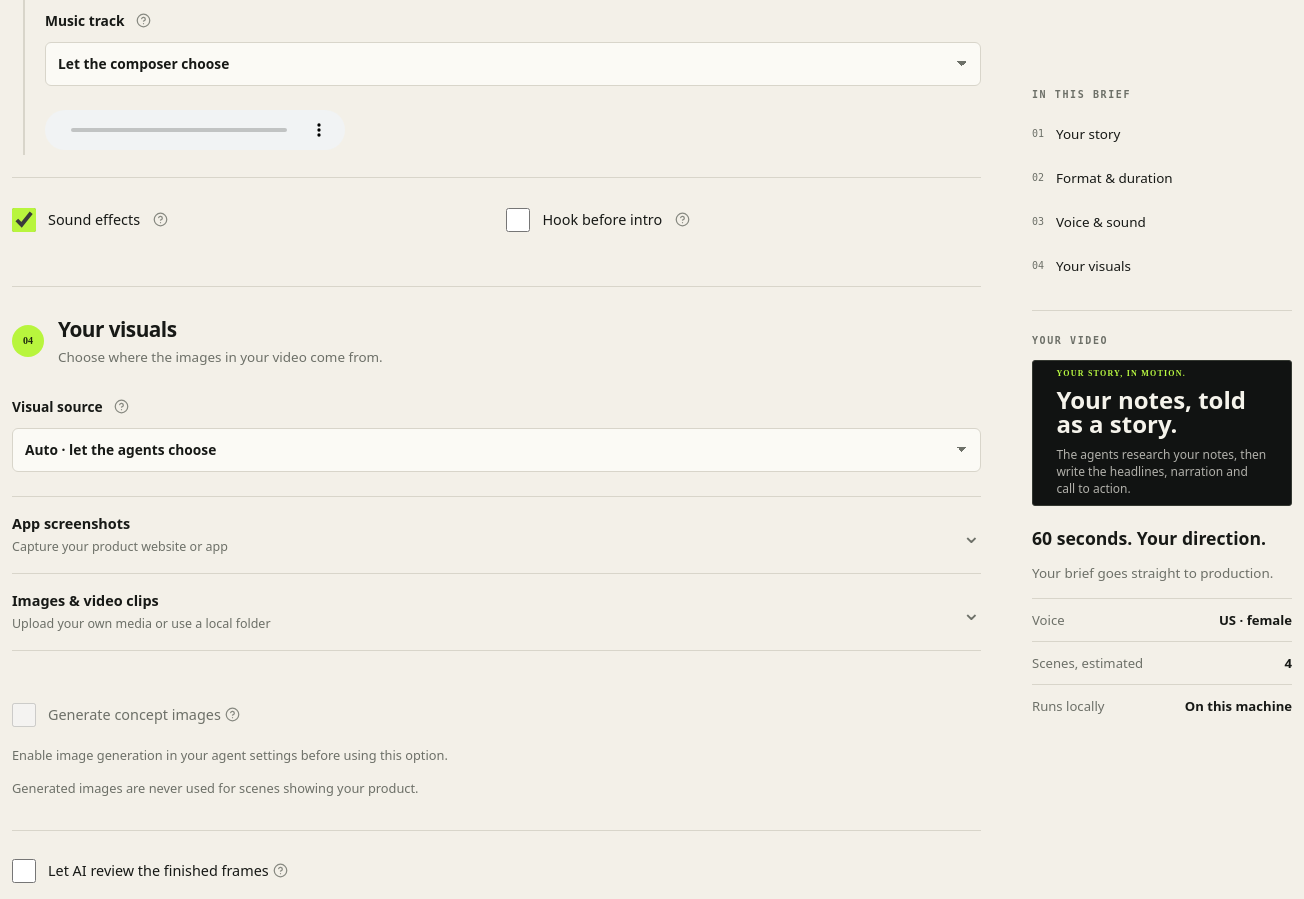
Test case: brief progressive disclosure › retains image and capture customizations when switching visual sources
(page scrolled)
Select "My images & video clips" in the dropdown labelled "Visual source" at (496, 450), box [12,428,981,472]
(page scrolled)
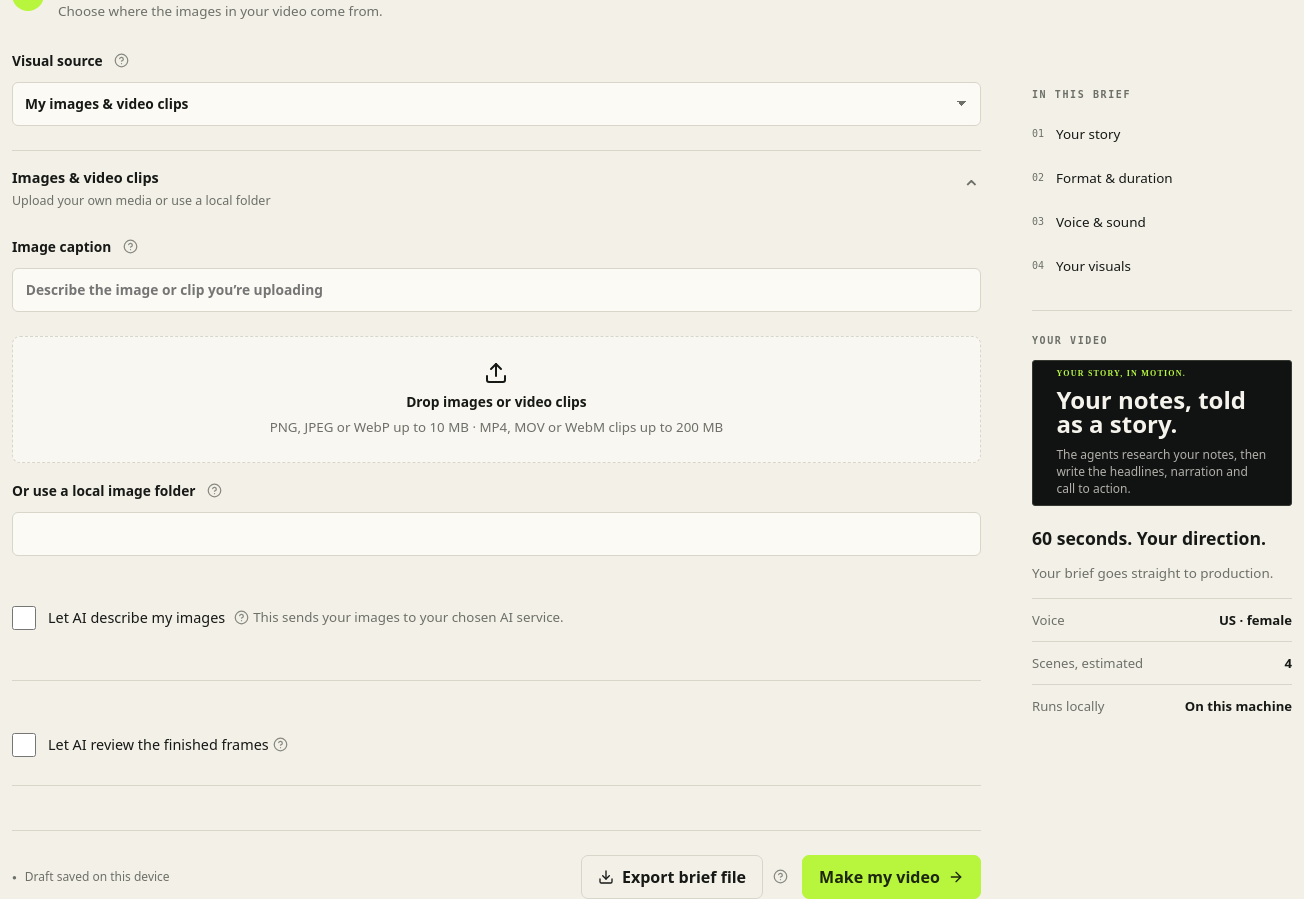
Type "/tmp/my-images" into the field labelled "Or use a local image folder" at (496, 534), box [12,512,981,556]
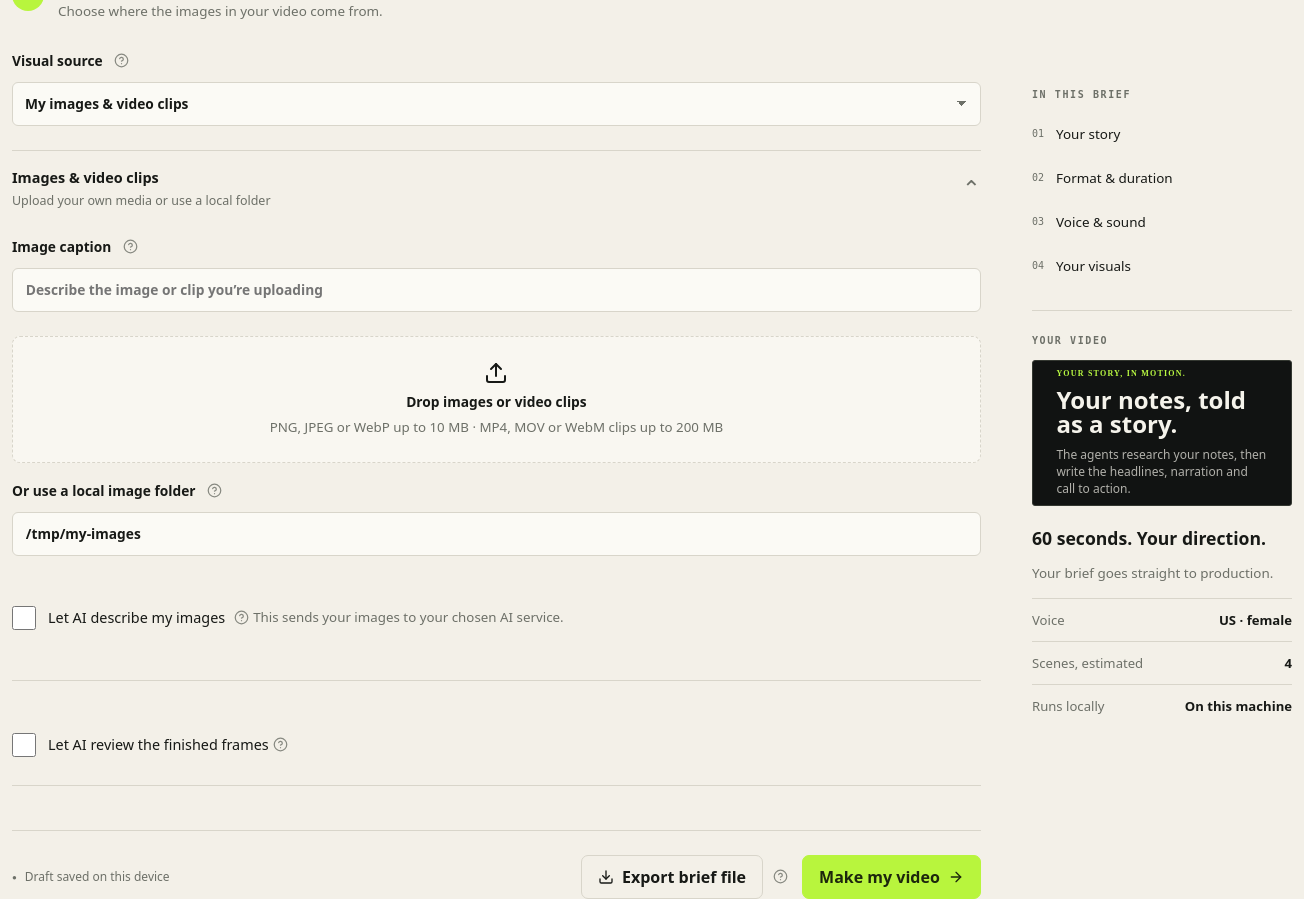
Select "App screenshots" in the dropdown labelled "Visual source" at (496, 104), box [12,82,981,126]
(page scrolled)
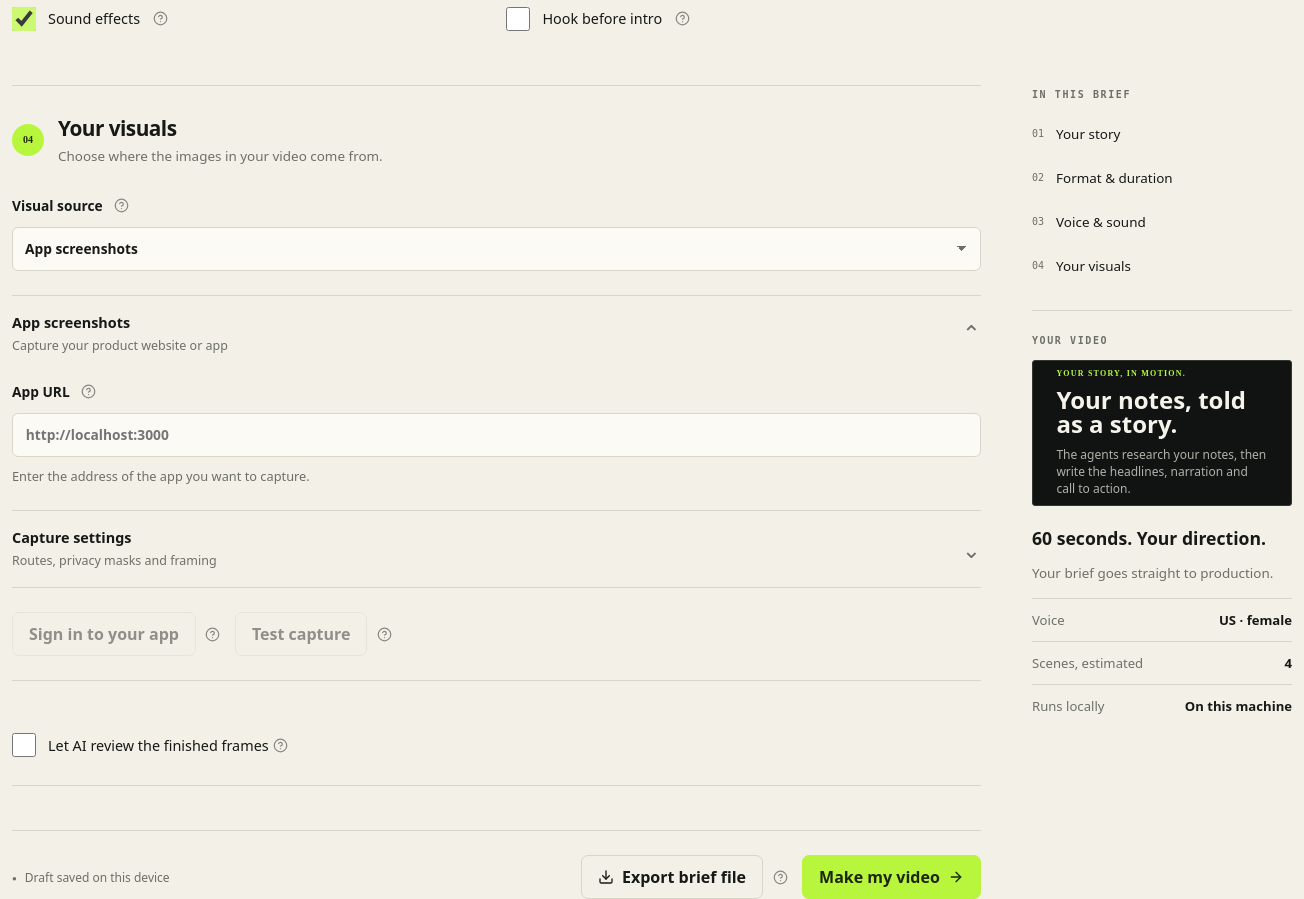
Type "https://example.com/app" into the field labelled "App URL" at (496, 435), box [12,413,981,457]
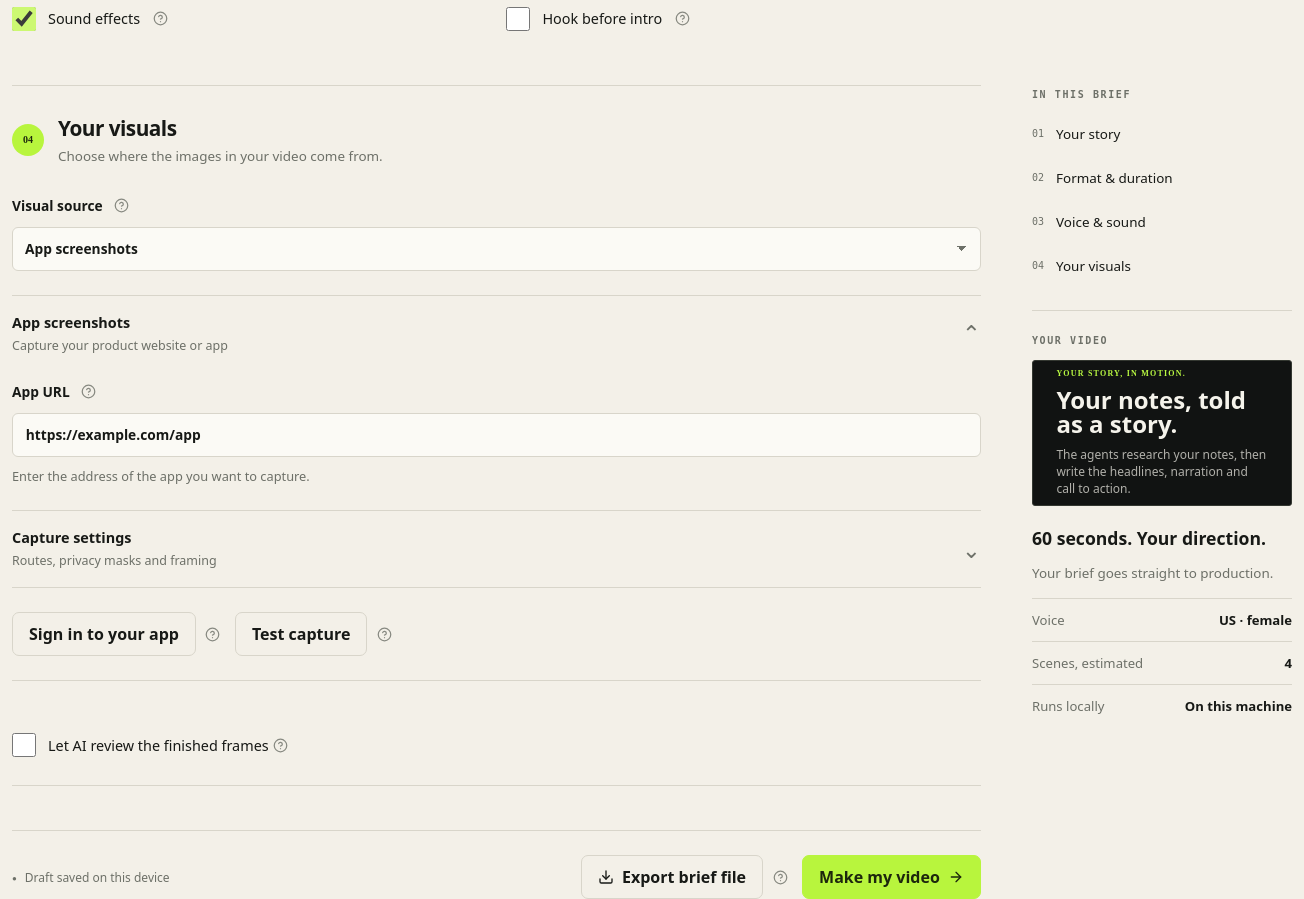
Select "My images & video clips" in the dropdown labelled "Visual source" at (496, 249), box [12,227,981,271]
(page scrolled)
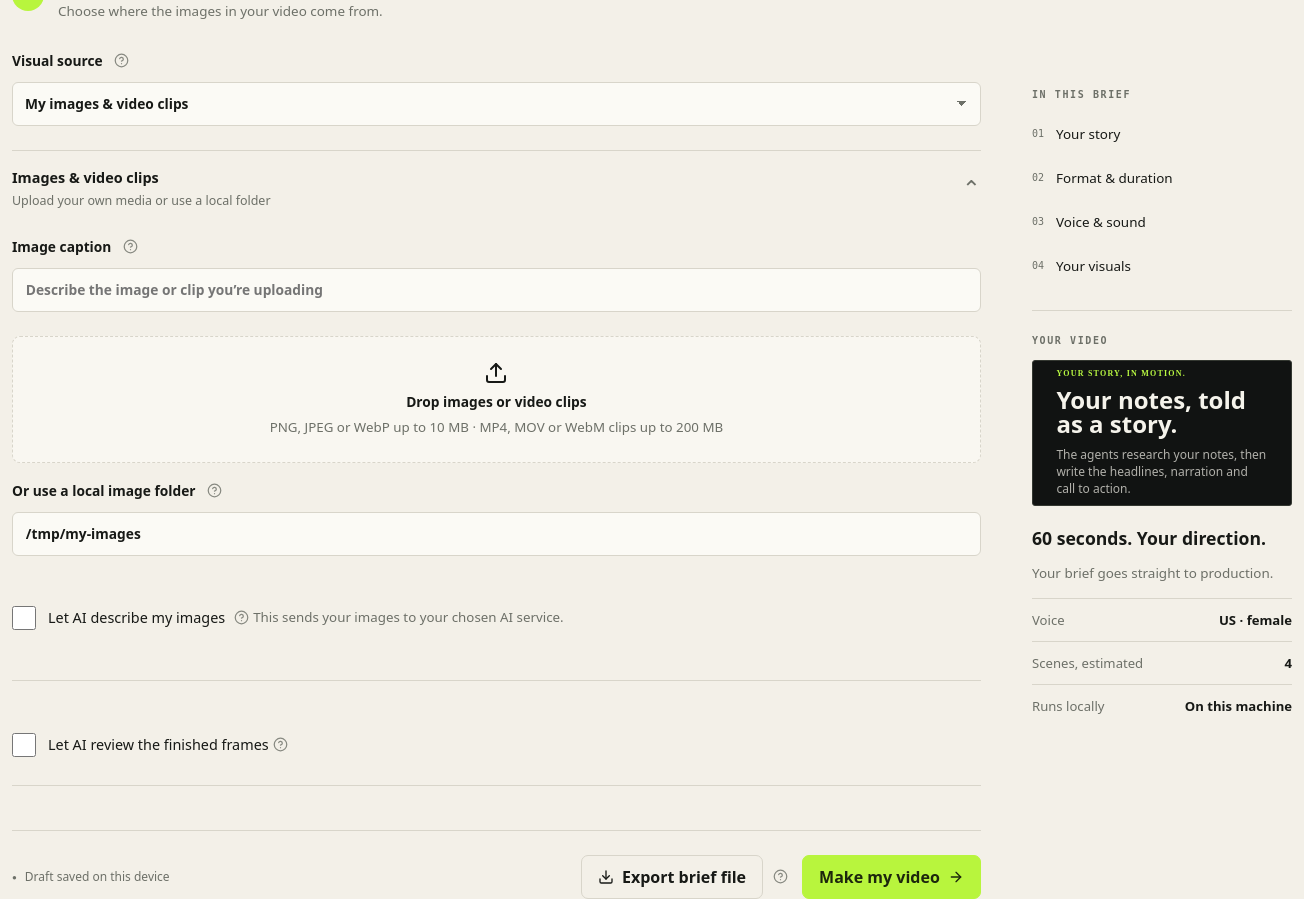
Result: the field labelled "Or use a local image folder" holds "/tmp/my-images" at [12,512,981,556]
Select "App screenshots" in the dropdown labelled "Visual source" at (496, 104), box [12,82,981,126]
(page scrolled)
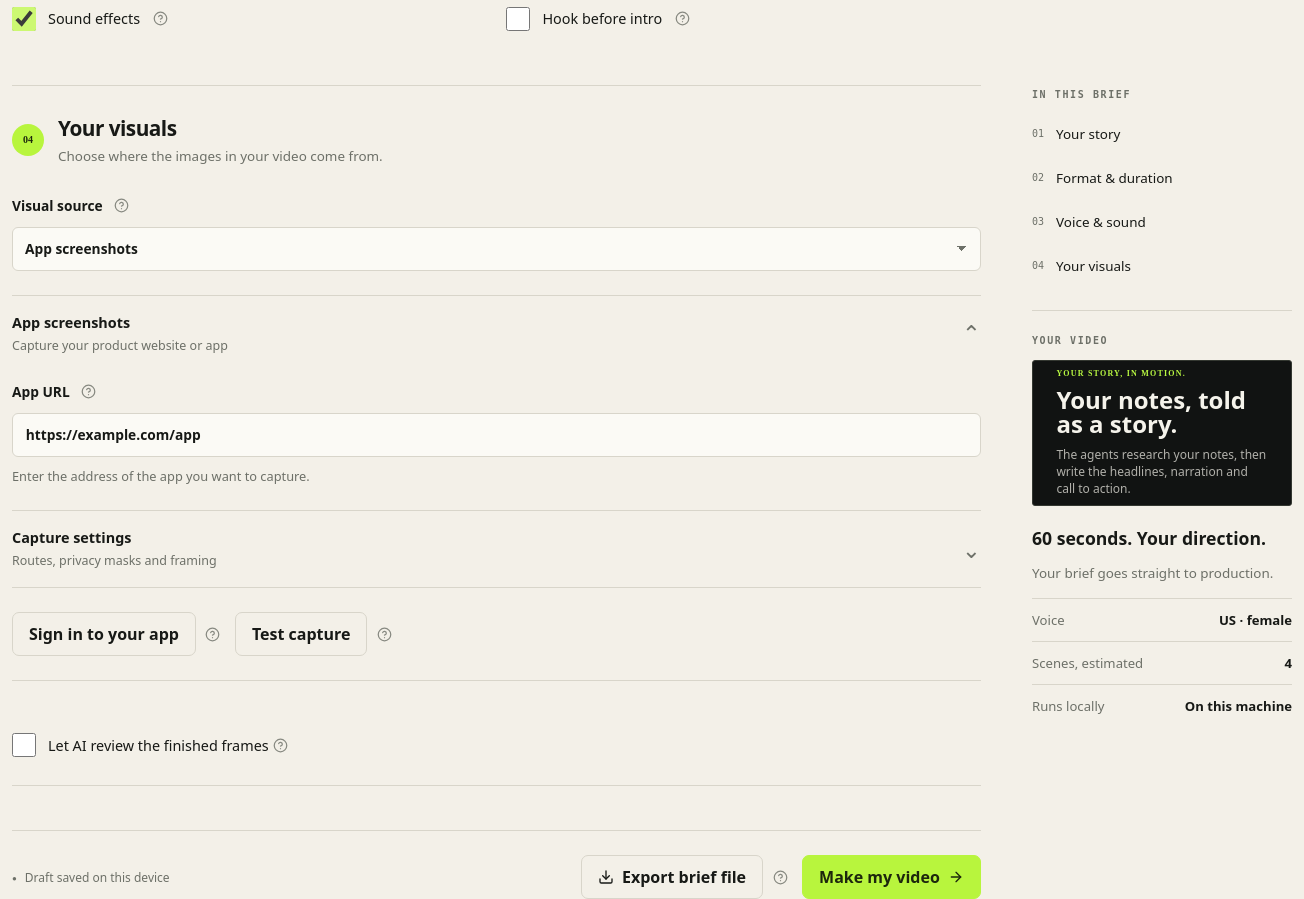
Result: the field labelled "App URL" holds "https://example.com/app" at [12,413,981,457]
